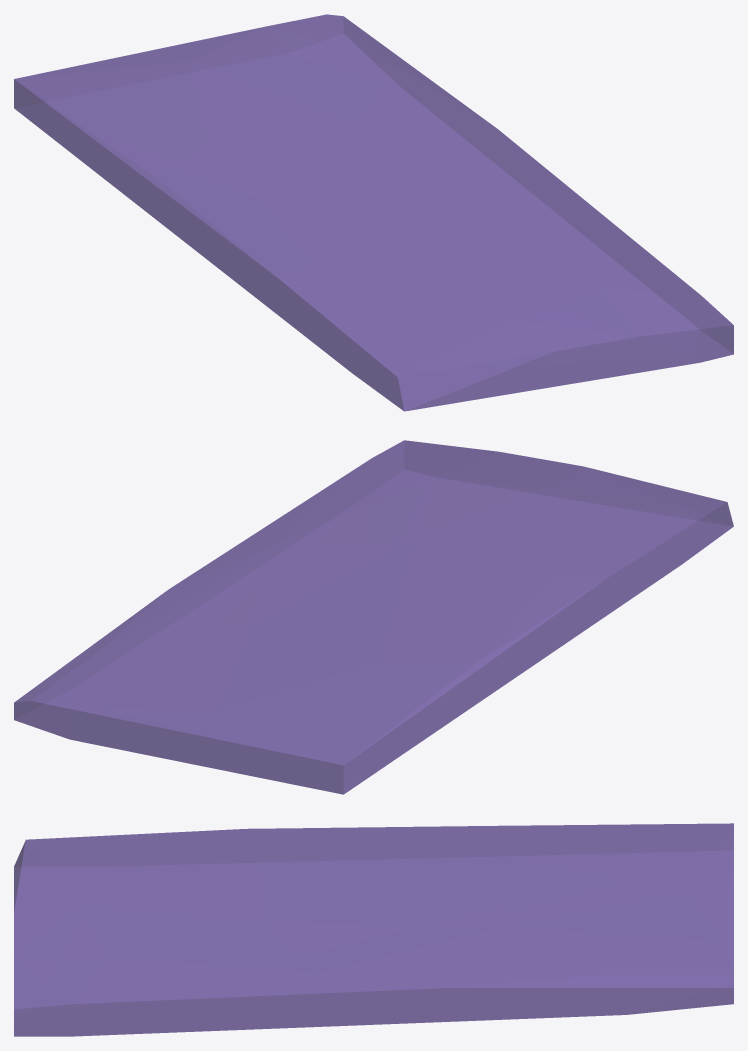
3 renders of one model, top to bottom at view 1: azimuth 30°, elevation 25°; view 2: azimuth 150°, elevation 25°; view 3: azimuth 270°, elevation 25°, orthographic. The views are drawn at different scales.
Parts seen in each view (by area): view 1: Shape_IndexedFaceSet.012_Shape_IndexedFaceSet.11156; view 2: Shape_IndexedFaceSet.012_Shape_IndexedFaceSet.11156; view 3: Shape_IndexedFaceSet.012_Shape_IndexedFaceSet.11156.
Boxes of the visible parts, bbox=[...] form: Shape_IndexedFaceSet.012_Shape_IndexedFaceSet.11156: bbox=[14, 14, 733, 411]; Shape_IndexedFaceSet.012_Shape_IndexedFaceSet.11156: bbox=[14, 440, 733, 794]; Shape_IndexedFaceSet.012_Shape_IndexedFaceSet.11156: bbox=[14, 823, 733, 1036].
Size of the model in its own units: 0.1937 by 0.0394 by 0.3972.
